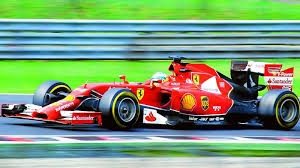f1_car: (1, 53, 300, 136)
